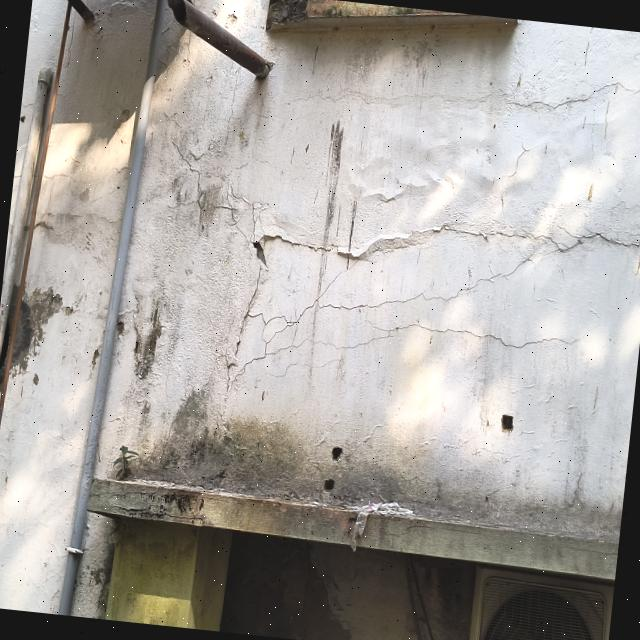Paint Peeling: (216, 133, 640, 372)
pollution -moisture induced blackening: (108, 391, 629, 539), (355, 505, 618, 581), (88, 478, 359, 546), (12, 286, 62, 377), (134, 301, 161, 378)
